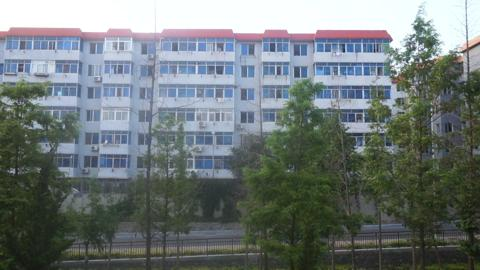UAV: (232, 85, 239, 89)
